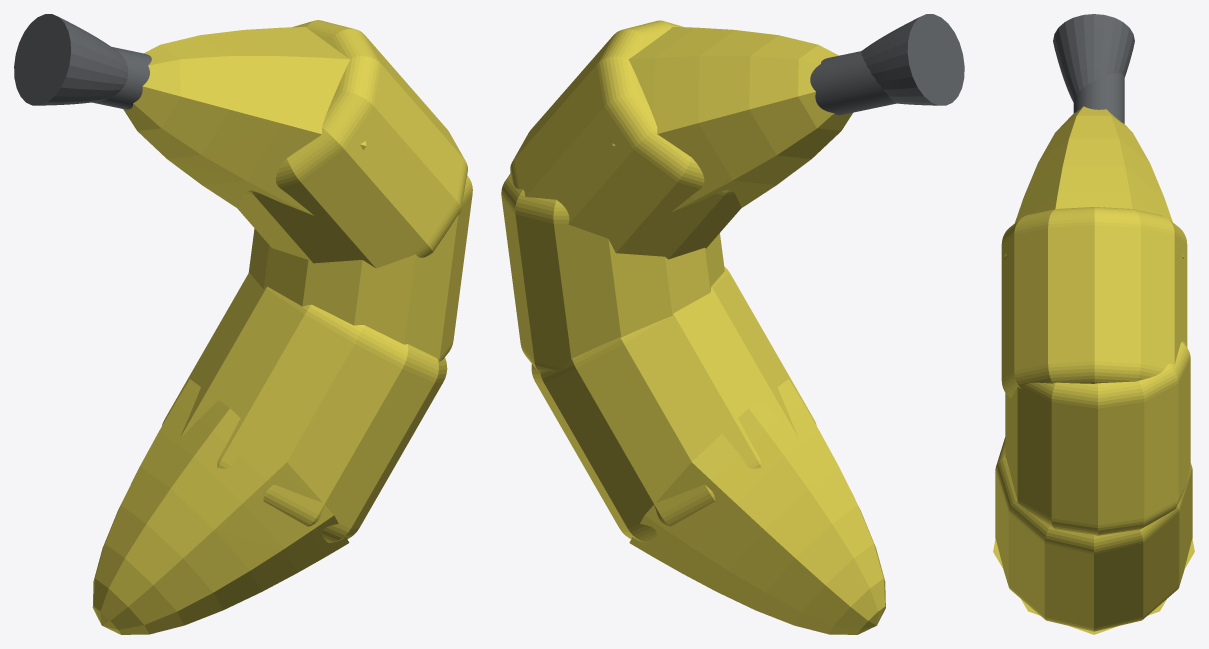
Rendered from exempel.glb.
3 renders of one model, left to right at view 1: azimuth 30°, elevation 25°; view 2: azimuth 150°, elevation 25°; view 3: azimuth 270°, elevation 25°, orthographic. The views are drawn at different scales.
Parts seen in each view (by area): view 1: Mesh_Mesh_head_geo.001_lambert2SG.001; view 2: Mesh_Mesh_head_geo.001_lambert2SG.001; view 3: Mesh_Mesh_head_geo.001_lambert2SG.001.
Boxes of the visible parts, left/top/right/bottom form: Mesh_Mesh_head_geo.001_lambert2SG.001: left=14, top=14, right=472, bottom=634; Mesh_Mesh_head_geo.001_lambert2SG.001: left=501, top=14, right=964, bottom=634; Mesh_Mesh_head_geo.001_lambert2SG.001: left=993, top=14, right=1194, bottom=634.
Size of the model in its own units: 29.29 by 40.82 by 13.47.
